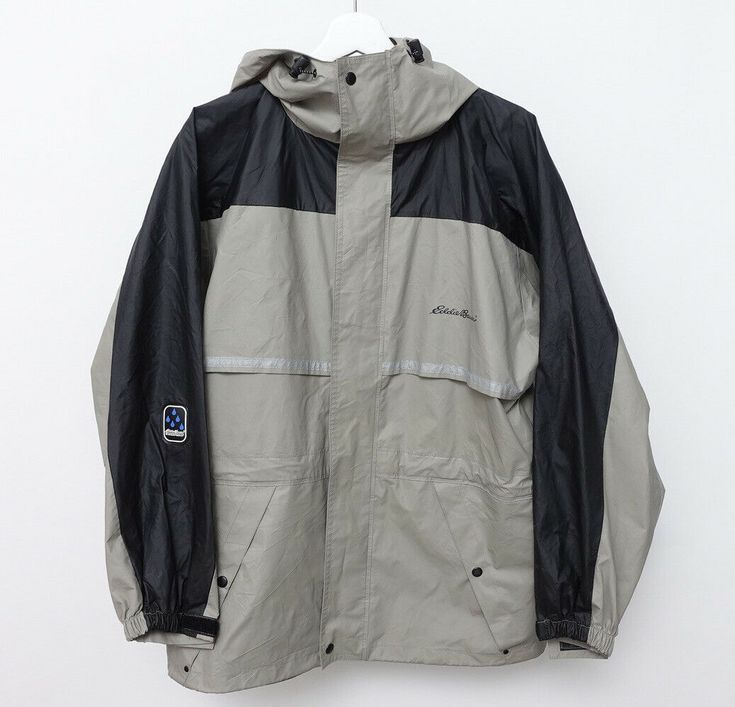nylon: (88, 37, 666, 695)
